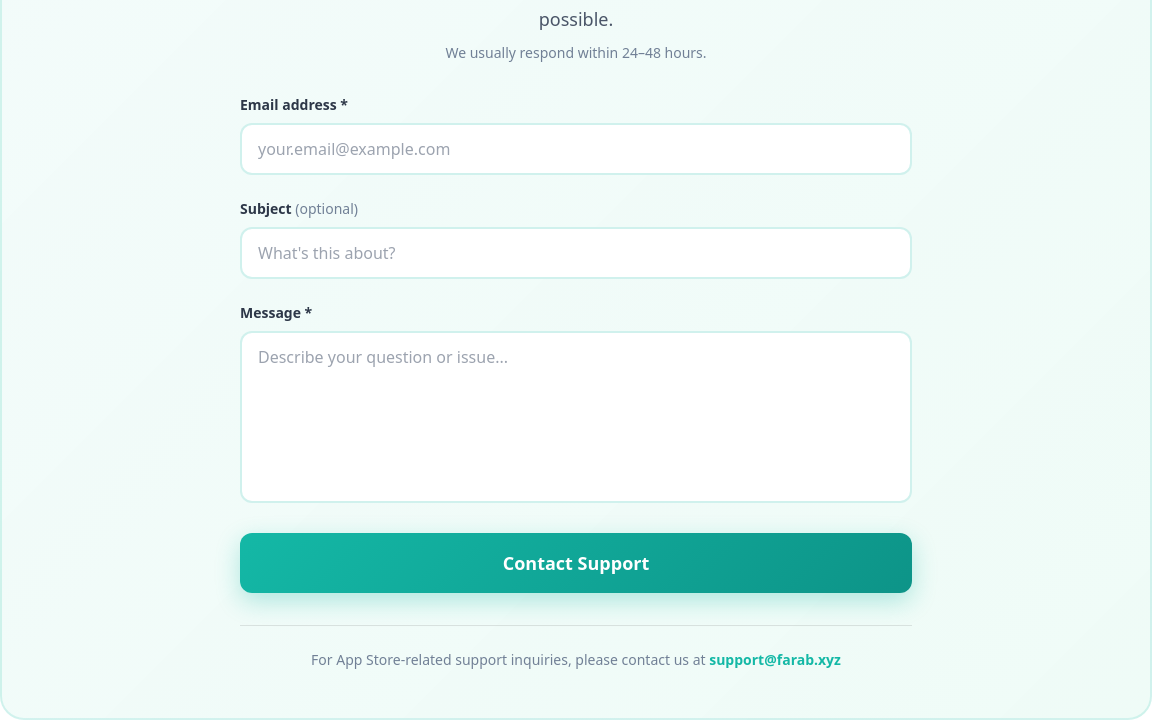
Test case: ContactSupport › shows validation error for empty email
This screenshot has width=1152, height=720.
(page scrolled)
Click the button "Contact Support": click(576, 563) [240,533,912,593]
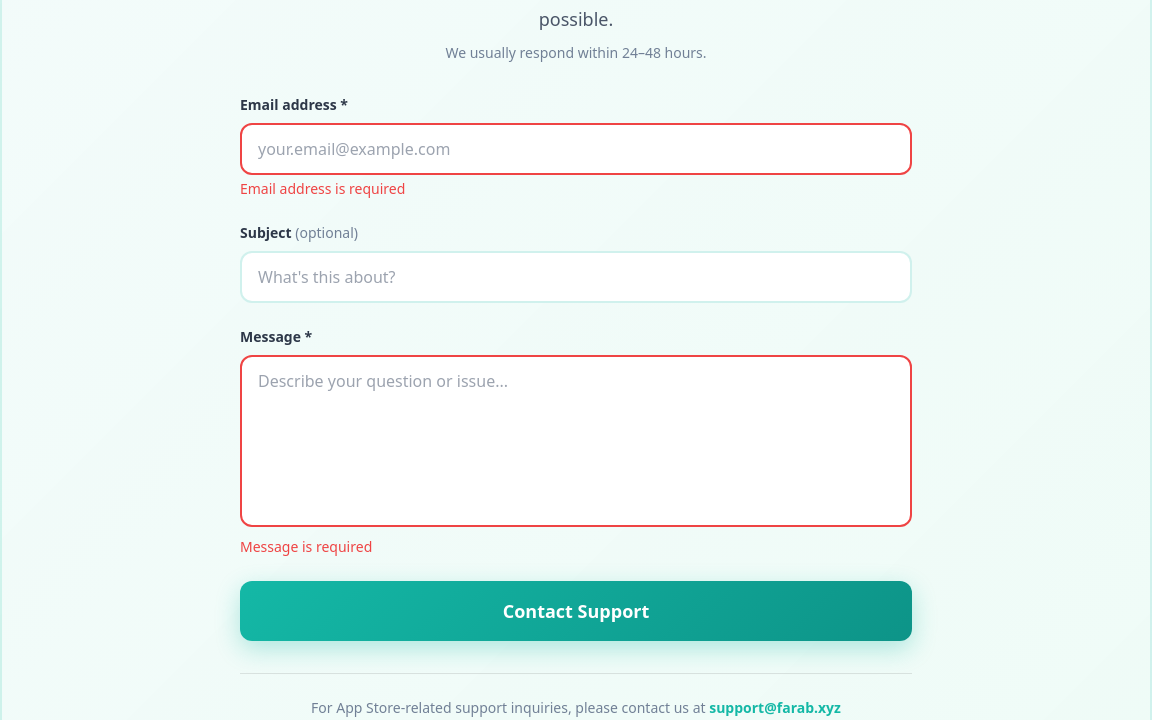
Expected: the text "Email address is required" is shown, [240,179,405,198]
